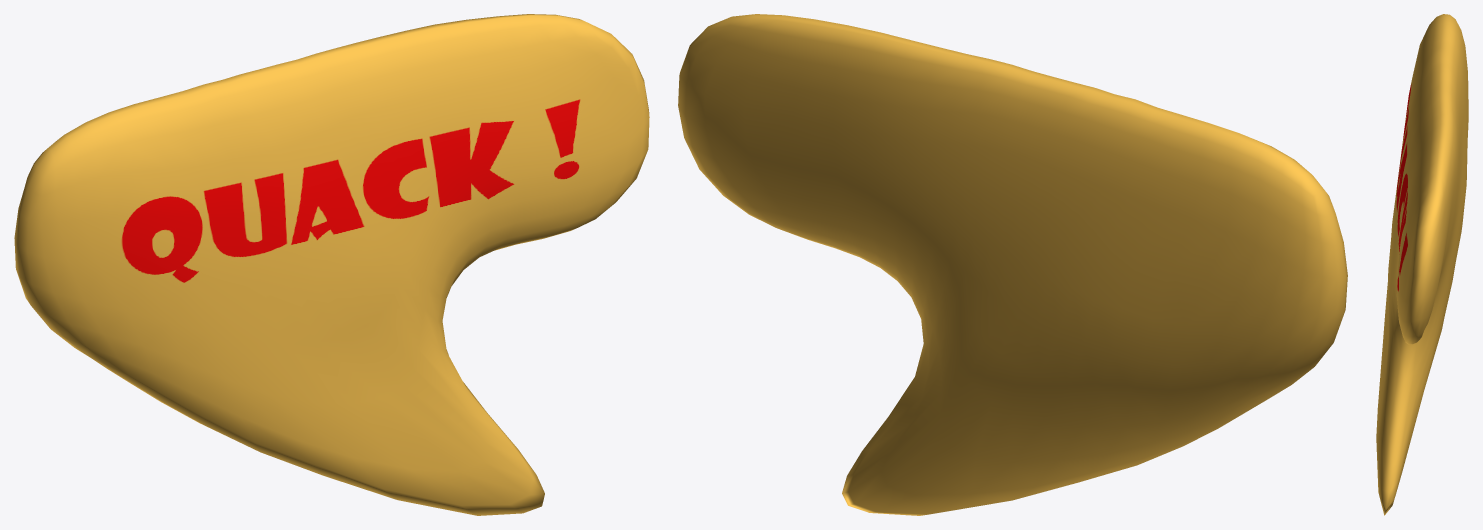
File: quack.fbx
3 renders of one model, left to right at view 1: azimuth 30°, elevation 25°; view 2: azimuth 150°, elevation 25°; view 3: azimuth 270°, elevation 25°, orthographic. The views are drawn at different scales.
Visible parts, largest first — view 1: pCube1; view 2: pCube1; view 3: pCube1.
Part boxes in pixels (<box>): pCube1: <box>14,14,649,515</box>; pCube1: <box>678,14,1347,515</box>; pCube1: <box>1376,14,1468,515</box>.
Bounding box in the file's own units: 1.35 × 0.9849 × 0.2302.
